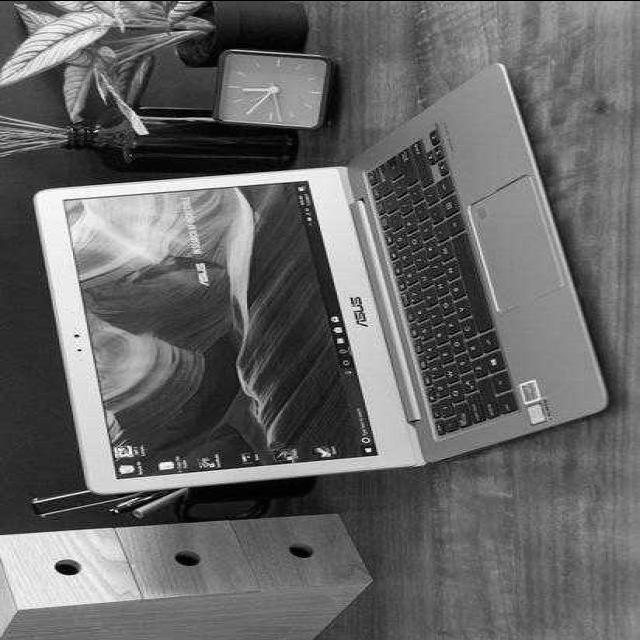laptop: (21, 45, 633, 489)
